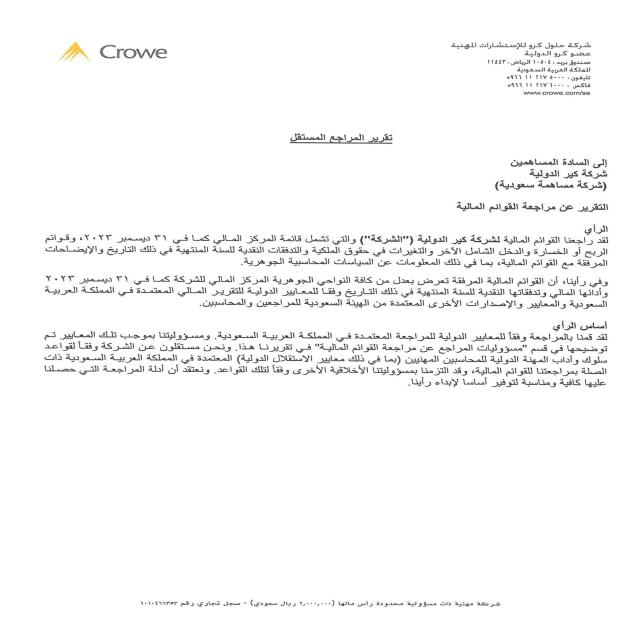auditor_report: (271, 130, 405, 150)
